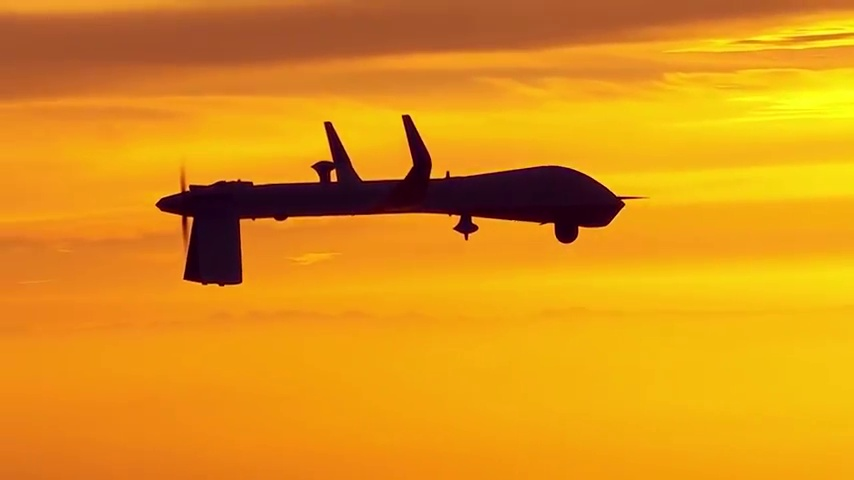military drone: (154, 114, 650, 286)
